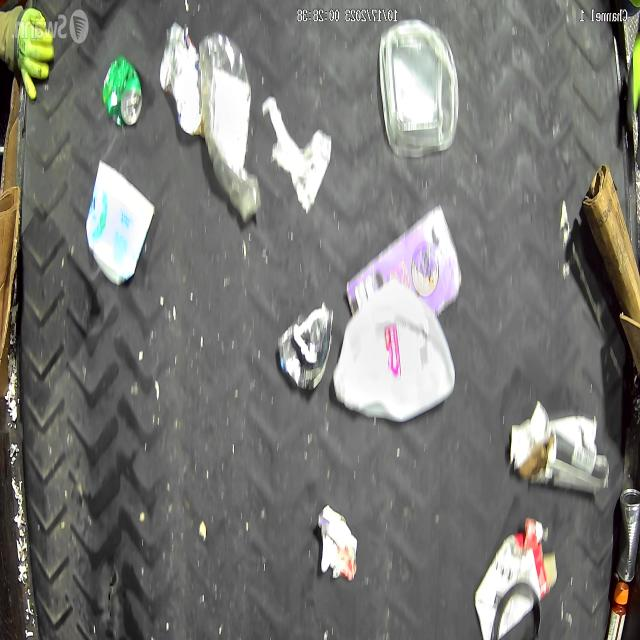can: (278, 306, 334, 391), (102, 56, 142, 128), (614, 488, 640, 582)
milk_jug: (332, 282, 458, 422)
plastic_bottle: (197, 31, 260, 222)
